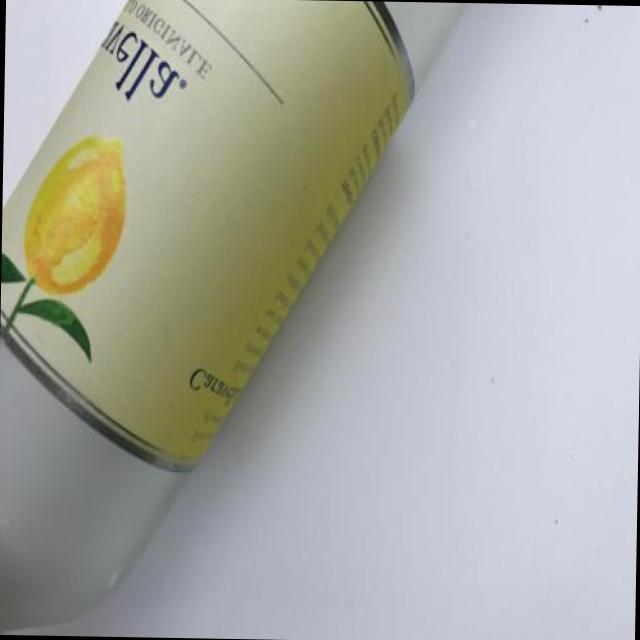chai_thuy_tinh: (0, 335, 189, 635), (384, 1, 470, 86)
giay: (0, 0, 416, 477)
